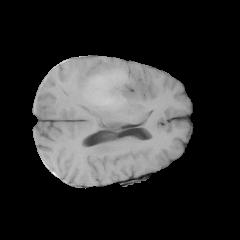glioma: (77, 62, 142, 111)
